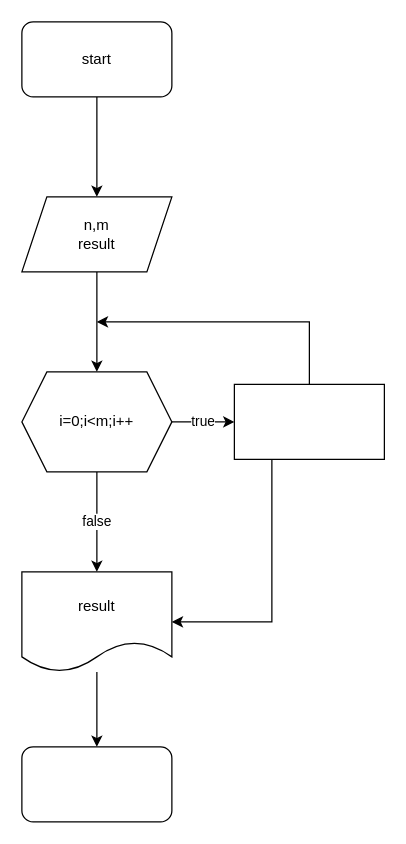
This 406x844 diagram has some shape labels left out. The shapes that lost their labels are listed below. From the top down, each one's centre as x and y in pixels, then its label:
(308,421): result=n*result
(96,784): end
